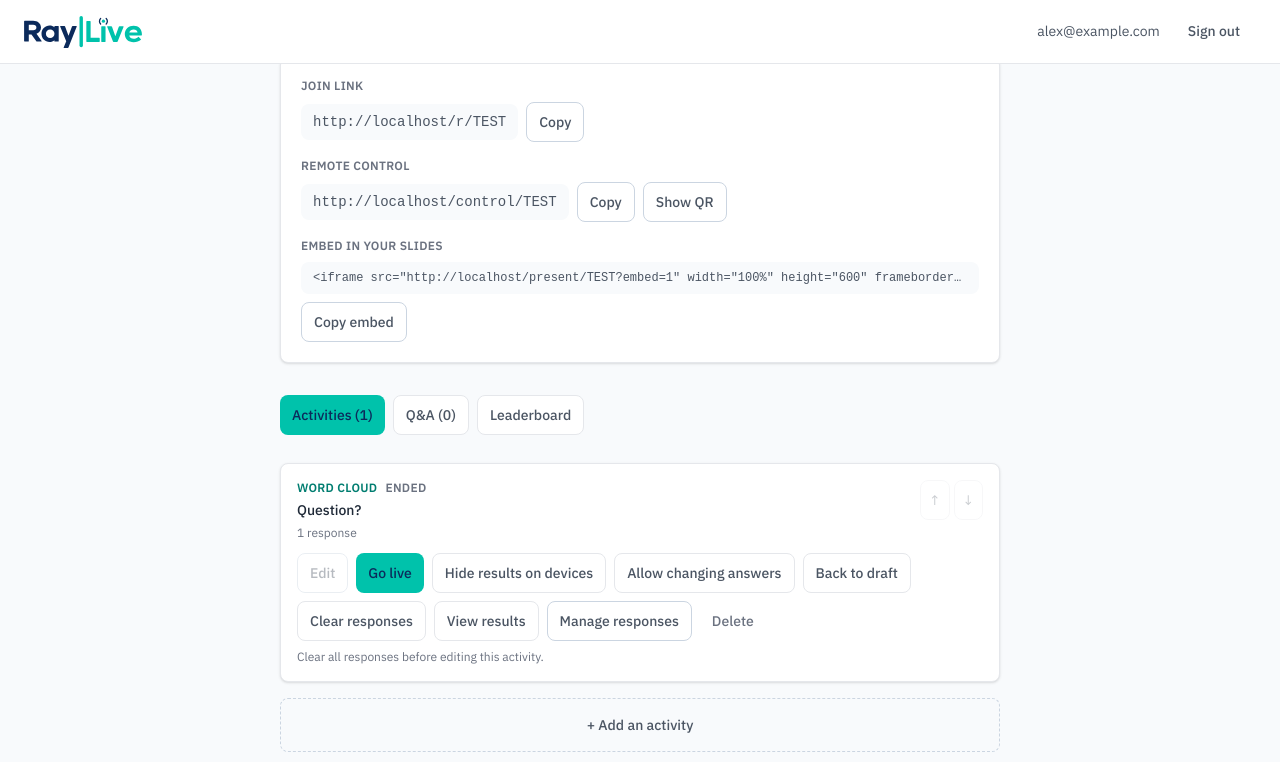
Test case: management shell › confirms bulk cloud deletion and preserves a failed action for retry
(page scrolled)
Click the button "Manage responses". click: (619, 621)
box: [547,601,692,641]
(page scrolled)
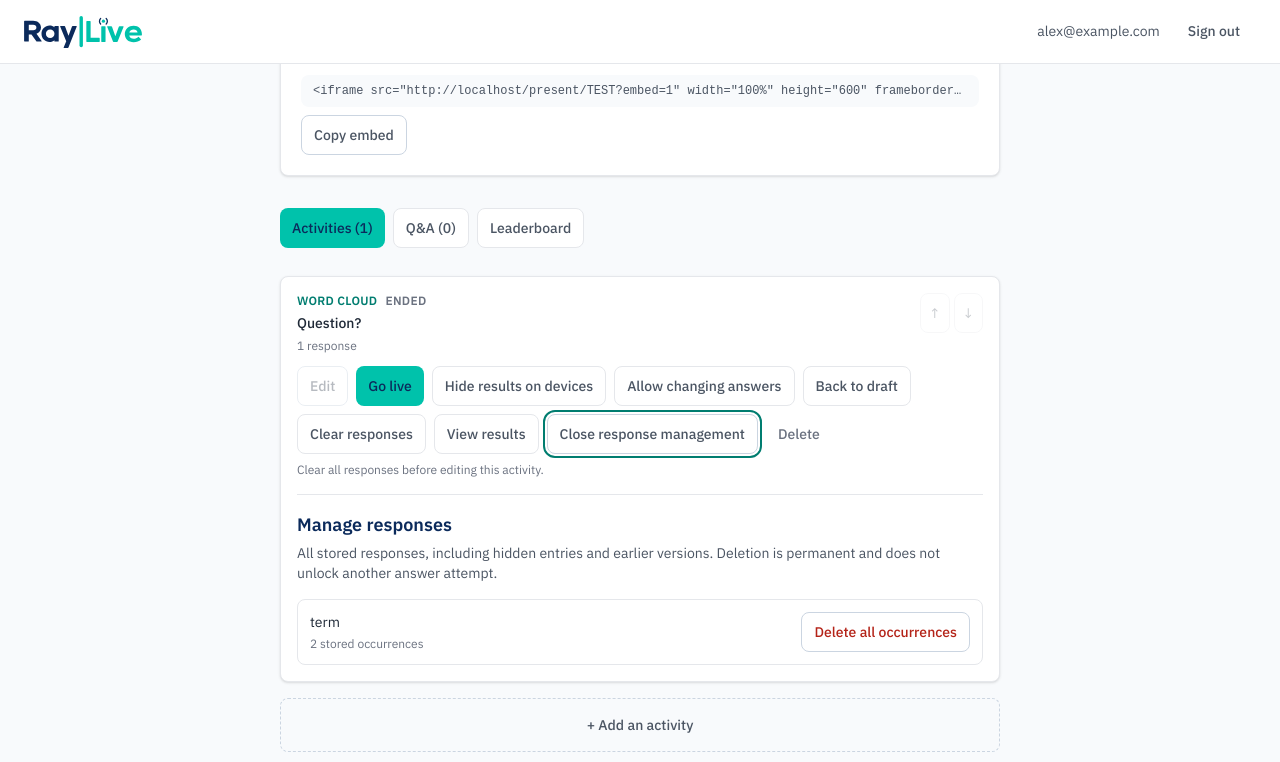
Click the button "Delete all occurrences". click: (886, 632)
box: [802,612,970,652]
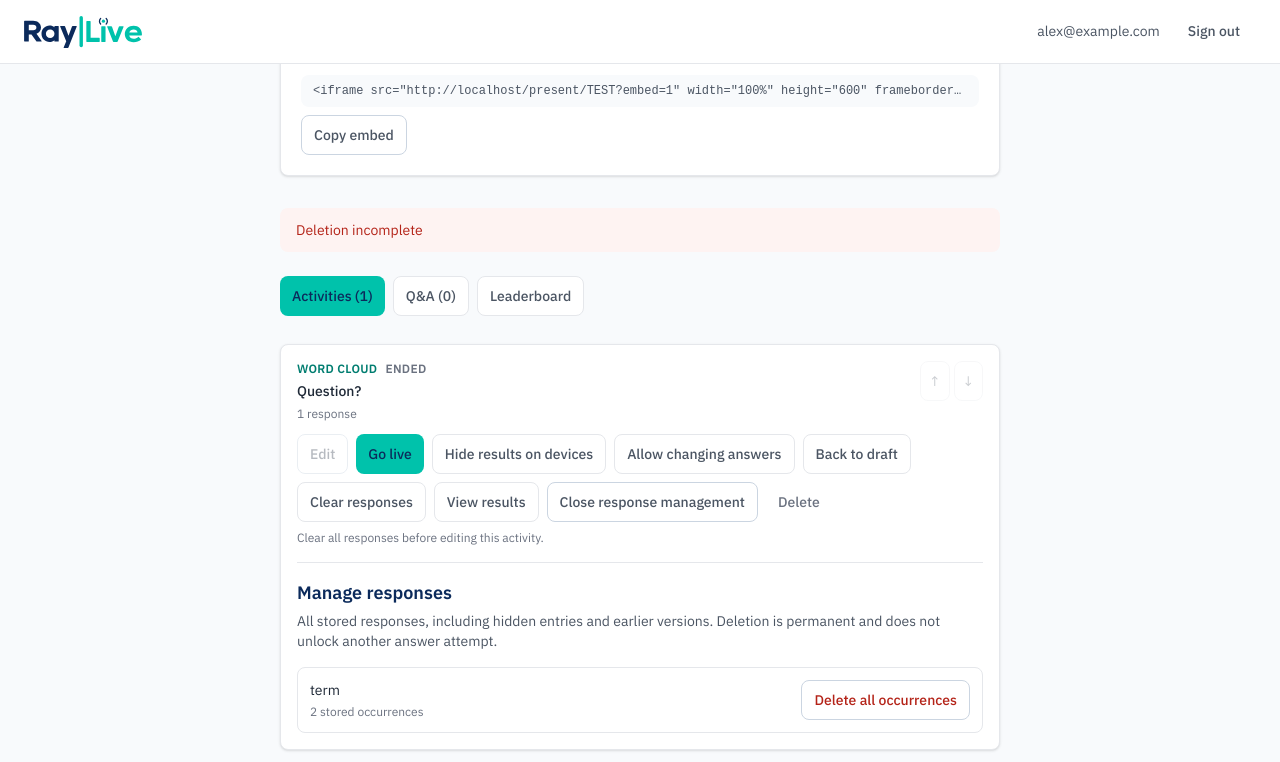
Expected: the message reads "Deletion incomplete", [296,221,423,239]
Click the button "Delete all occurrences". click: (886, 700)
box: [802,680,970,720]
(page scrolled)
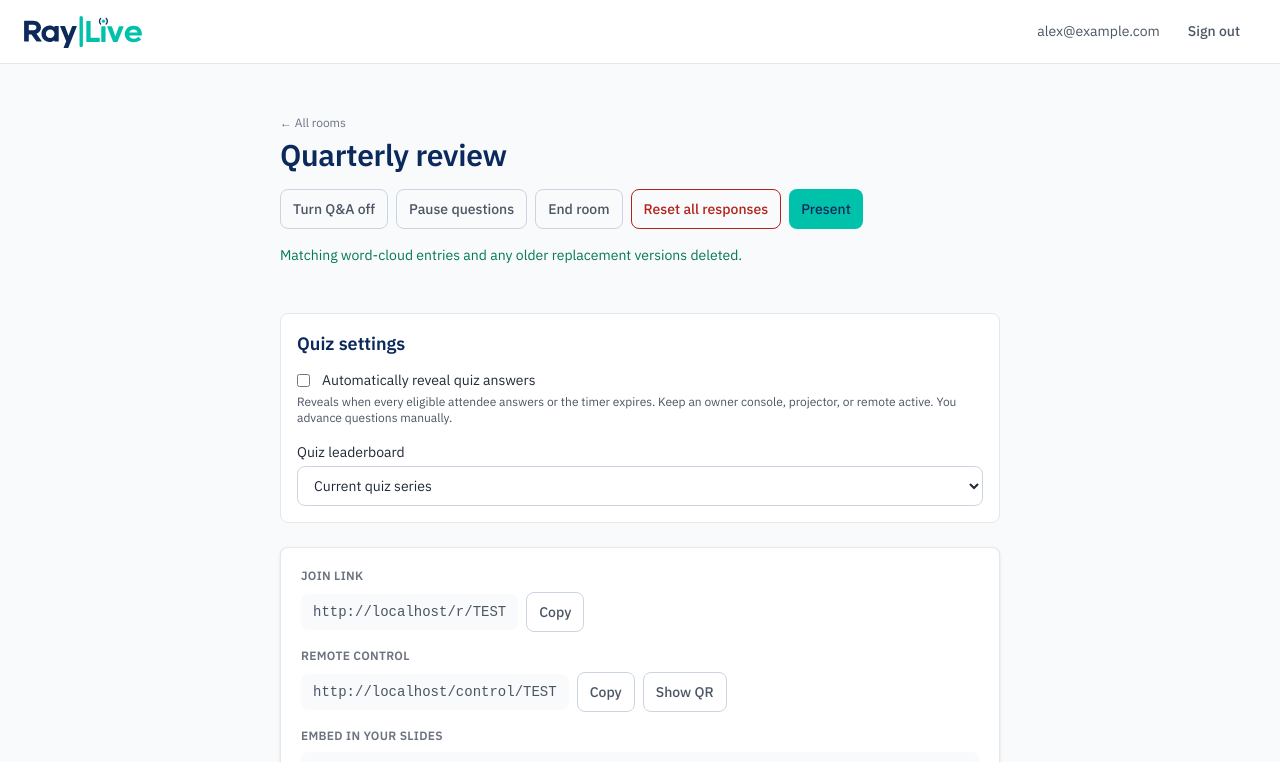
Expected: the message shows "Matching word-cloud entries", [280,246,742,264]
